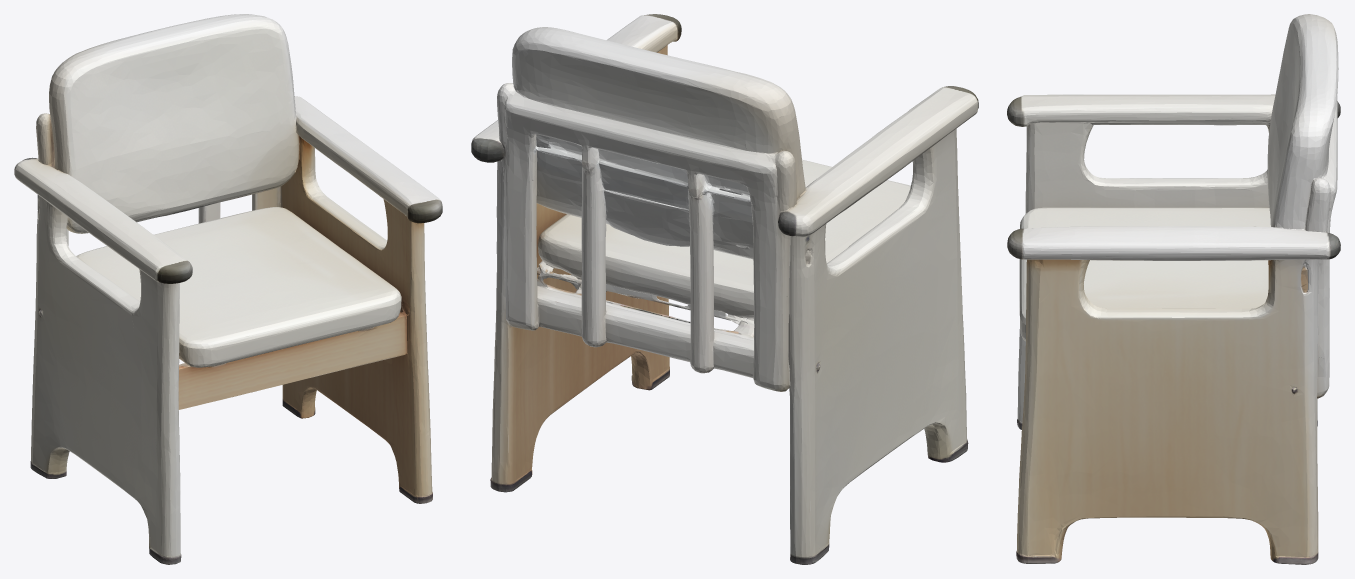
3 views of the same model, side by side, from view 1: azimuth 30°, elevation 25°; view 2: azimuth 150°, elevation 25°; view 3: azimuth 270°, elevation 25° (orthographic). The views are drawn at different scales.
Visible parts, largest first — view 1: world; view 2: world; view 3: world.
Boxes of the visible parts, x1=… form: world: x1=14, y1=14, x2=442, y2=564; world: x1=471, y1=14, x2=978, y2=564; world: x1=1007, y1=14, x2=1340, y2=564.
Bounding box in the file's own units: 0.7579 × 1 × 0.7011.
1 material, 1 textured.
